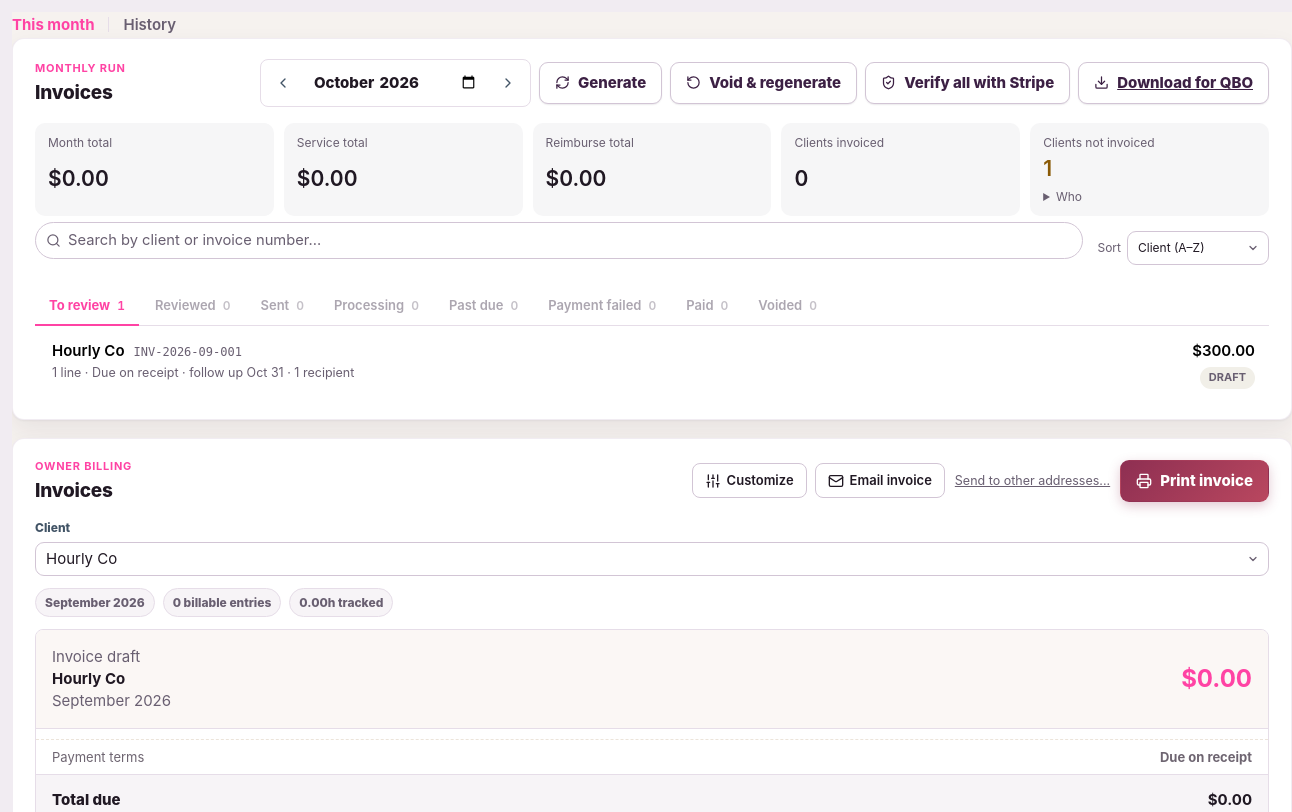
Scenario: Send to other addresses... beside Email invoice › still stops at a draft: review comes before send, link or not
Click the button "Send to other addresses..." at (1032, 481), box [953,468,1112,494]
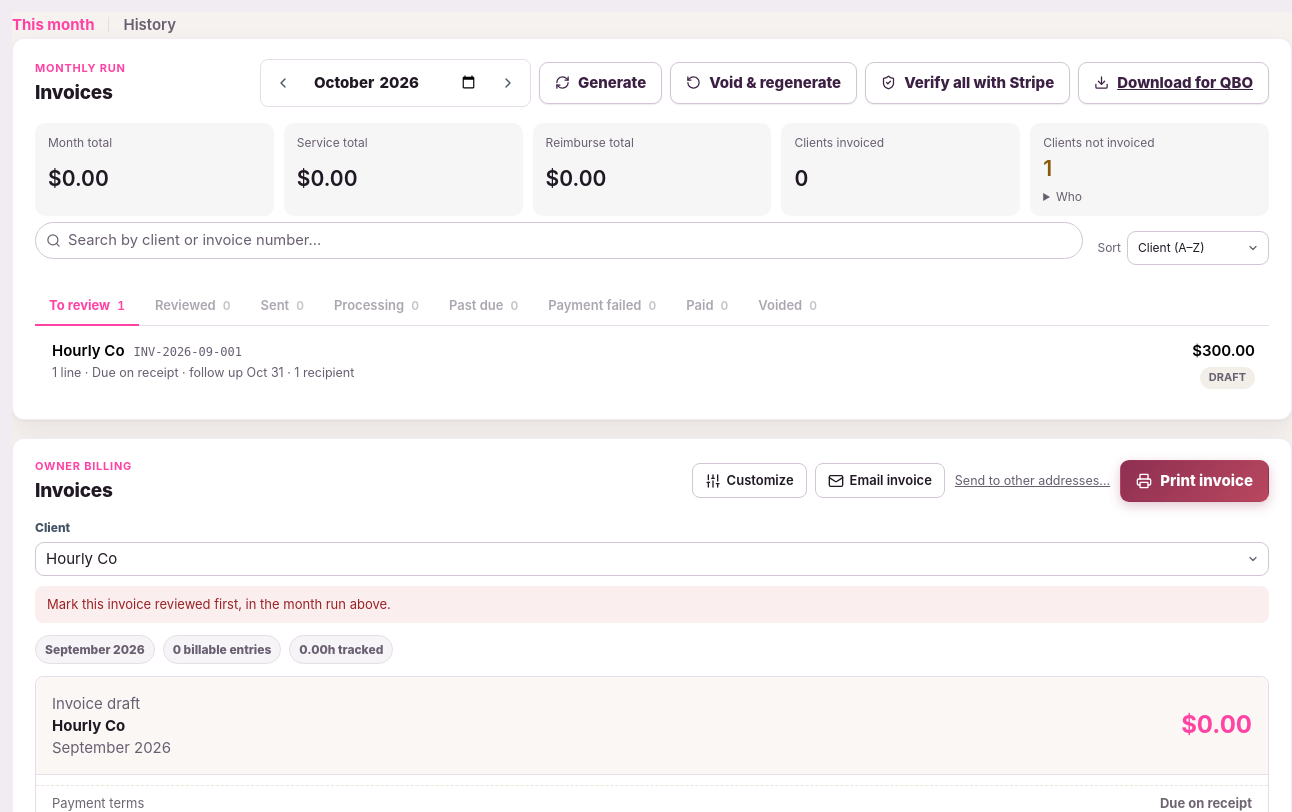
Result: the text "Mark this invoice reviewed first, in the month run above." is shown at [35,586,1269,623]
